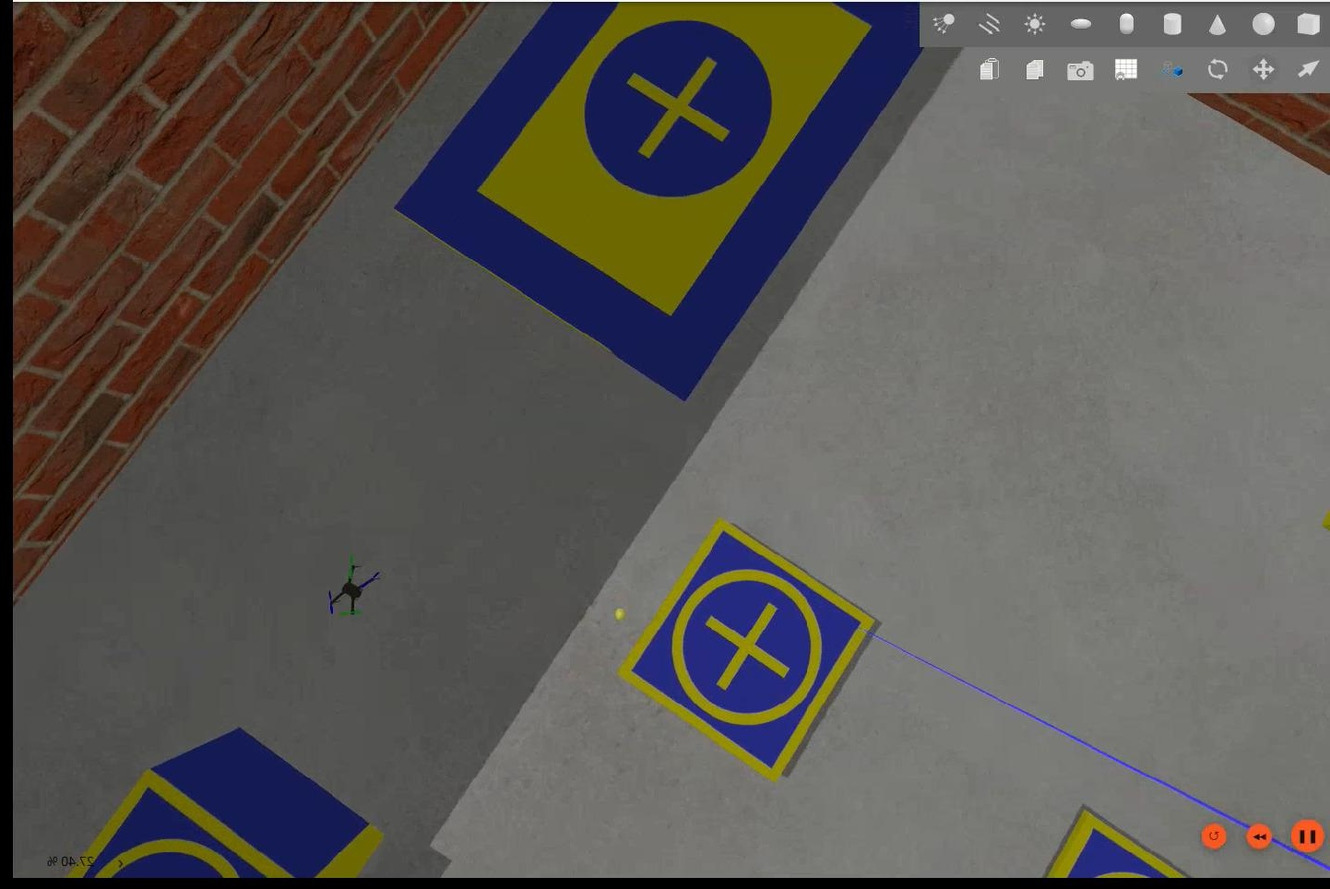large_base: (391, 2, 920, 402)
small_base: (614, 516, 877, 784), (65, 768, 296, 883)
